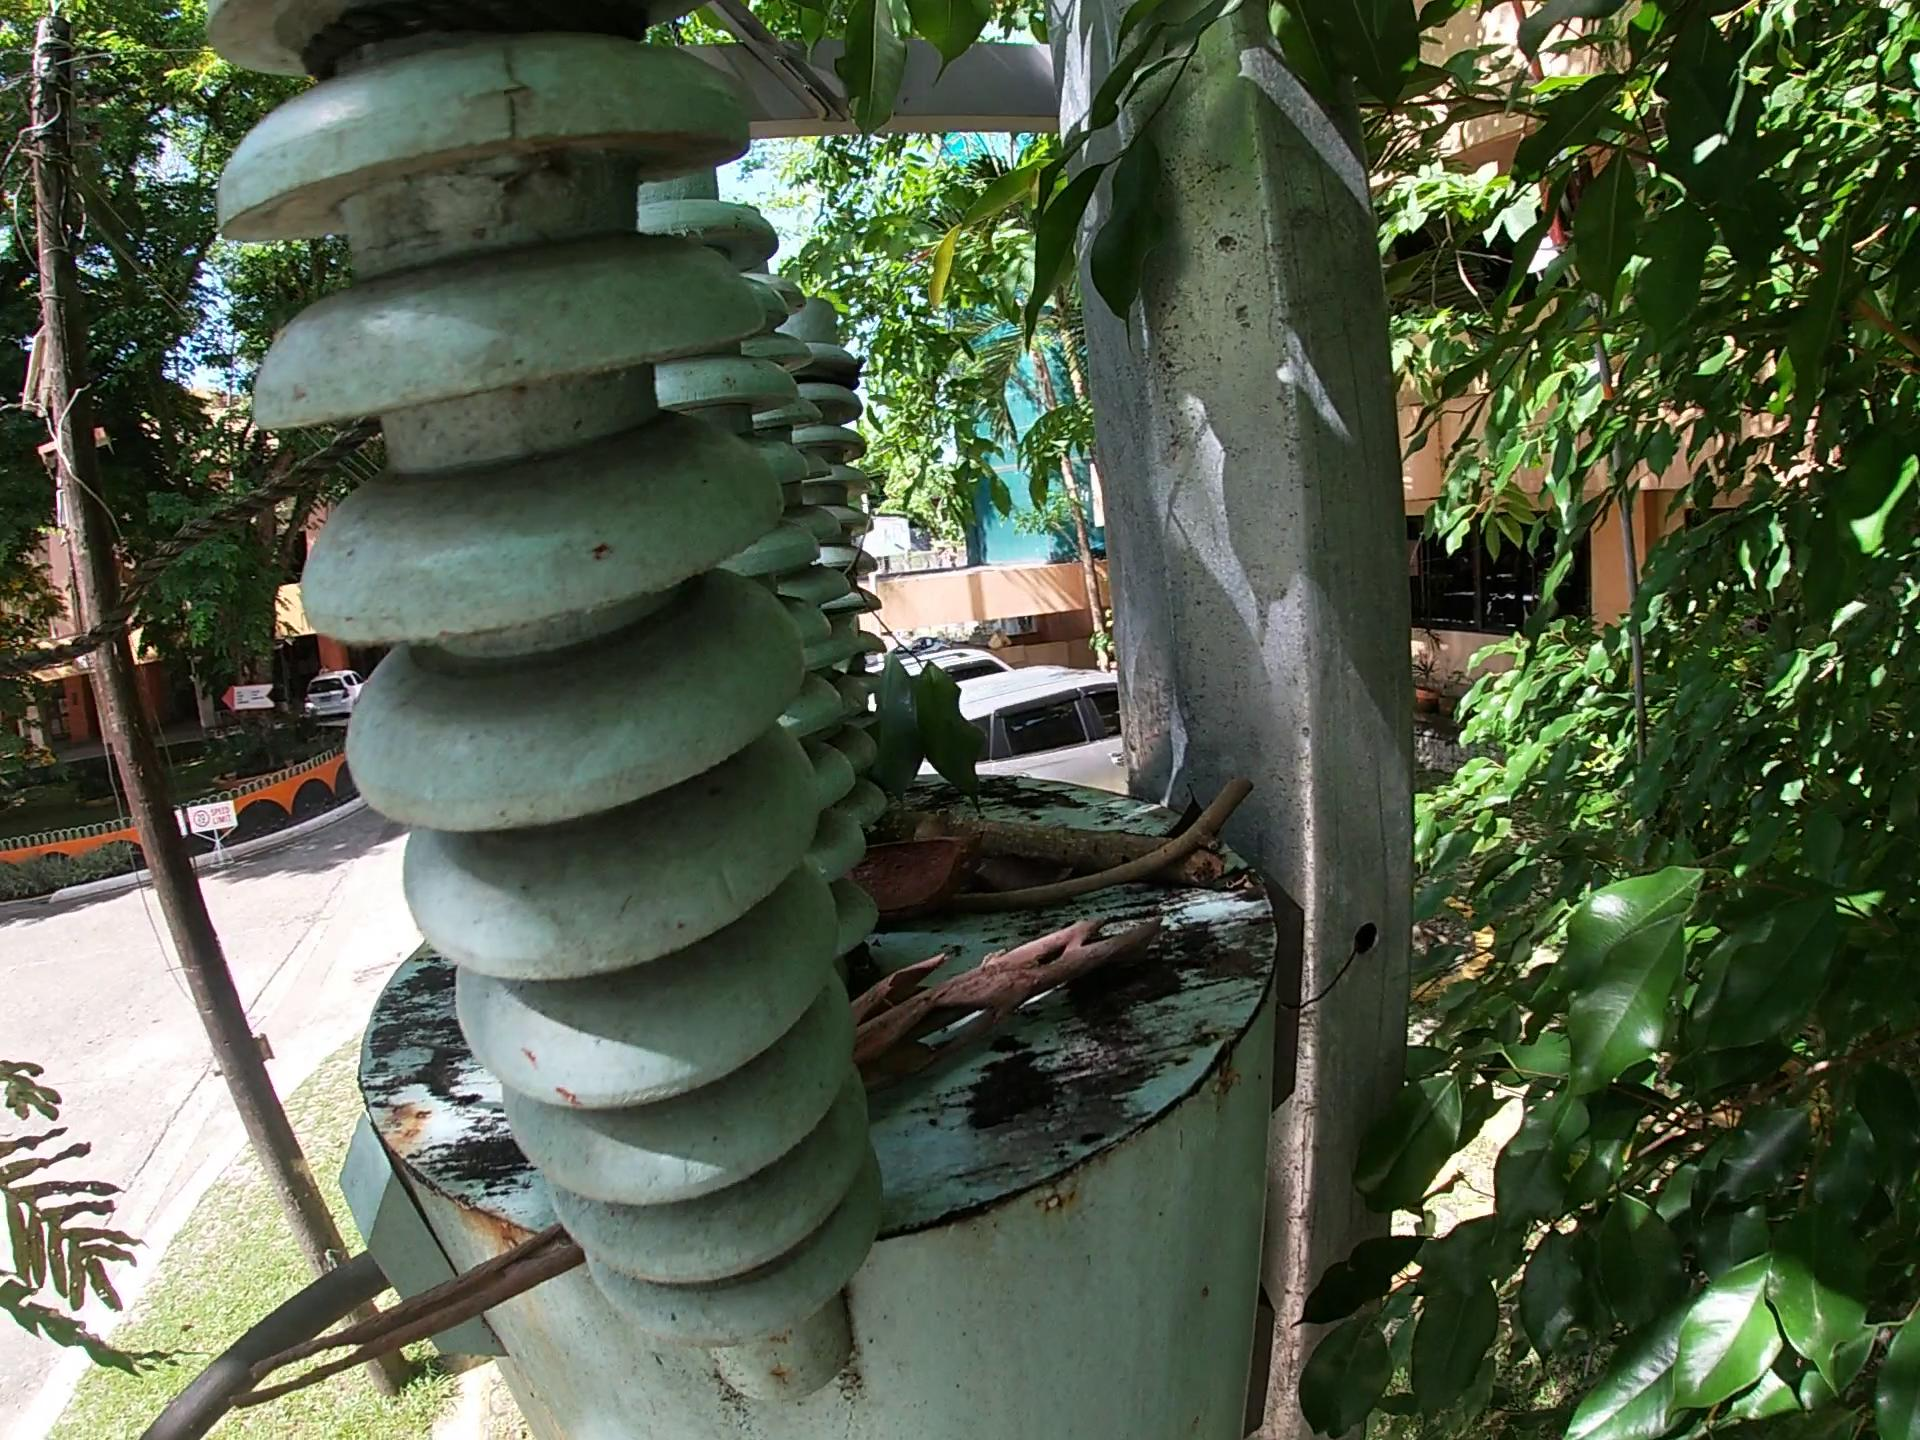branch with leaves: (828, 545, 1008, 782)
mahogany fruit: (851, 821, 969, 917)
tree branch: (225, 1225, 602, 1417), (821, 911, 1197, 1092), (934, 774, 1274, 906), (930, 803, 1222, 870)
